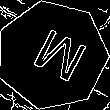M_SW: (20, 22, 85, 88)
